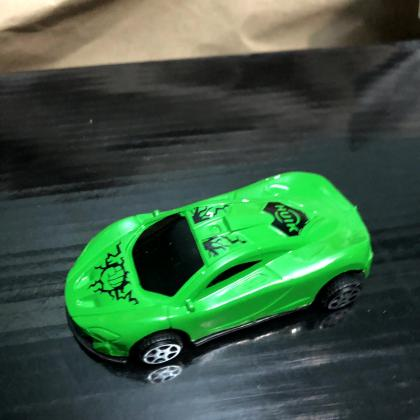Car: (64, 172, 374, 366)
